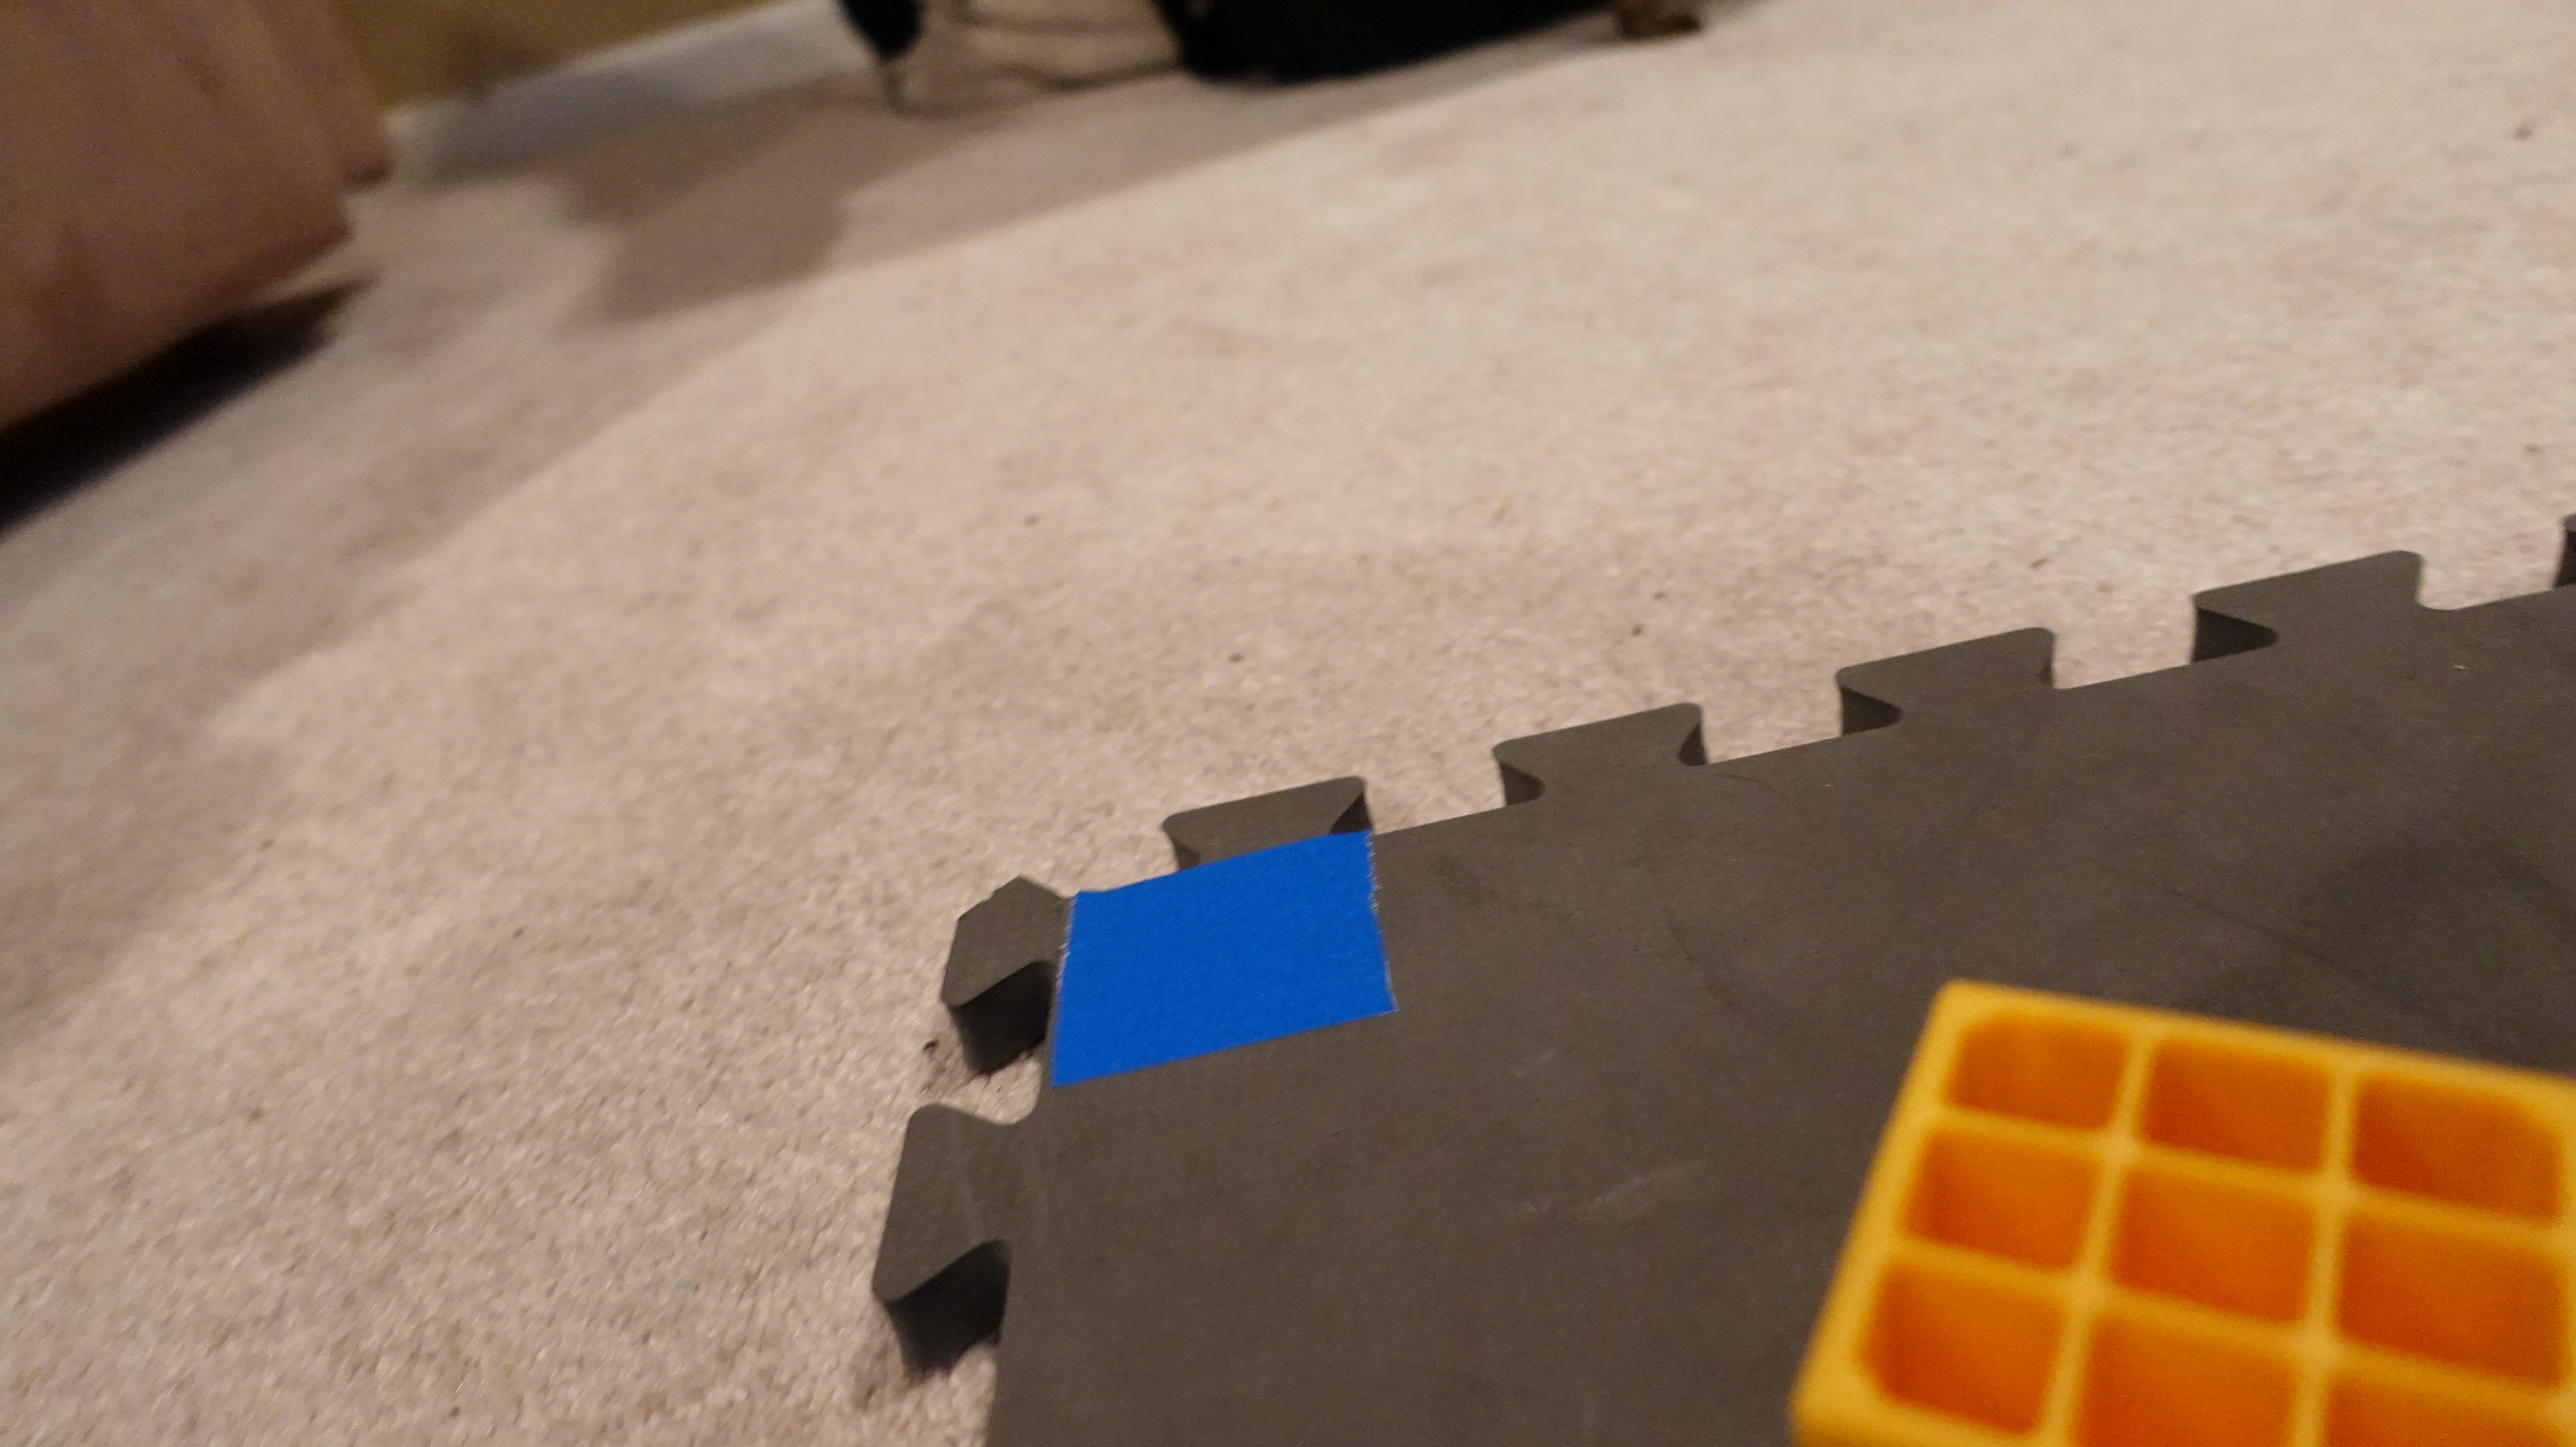gold: (1780, 966, 2576, 1447)
